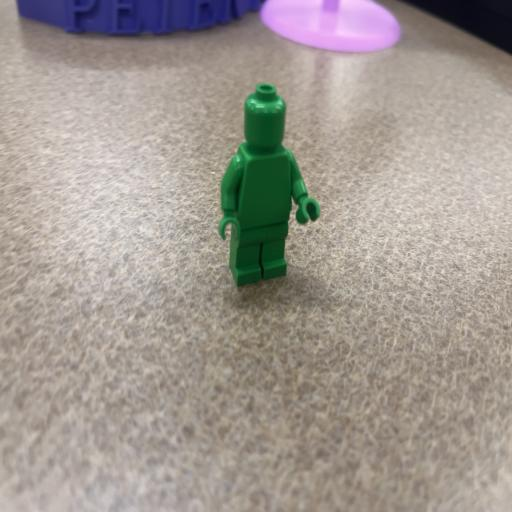Lego-Minifig: (219, 84, 320, 285)
